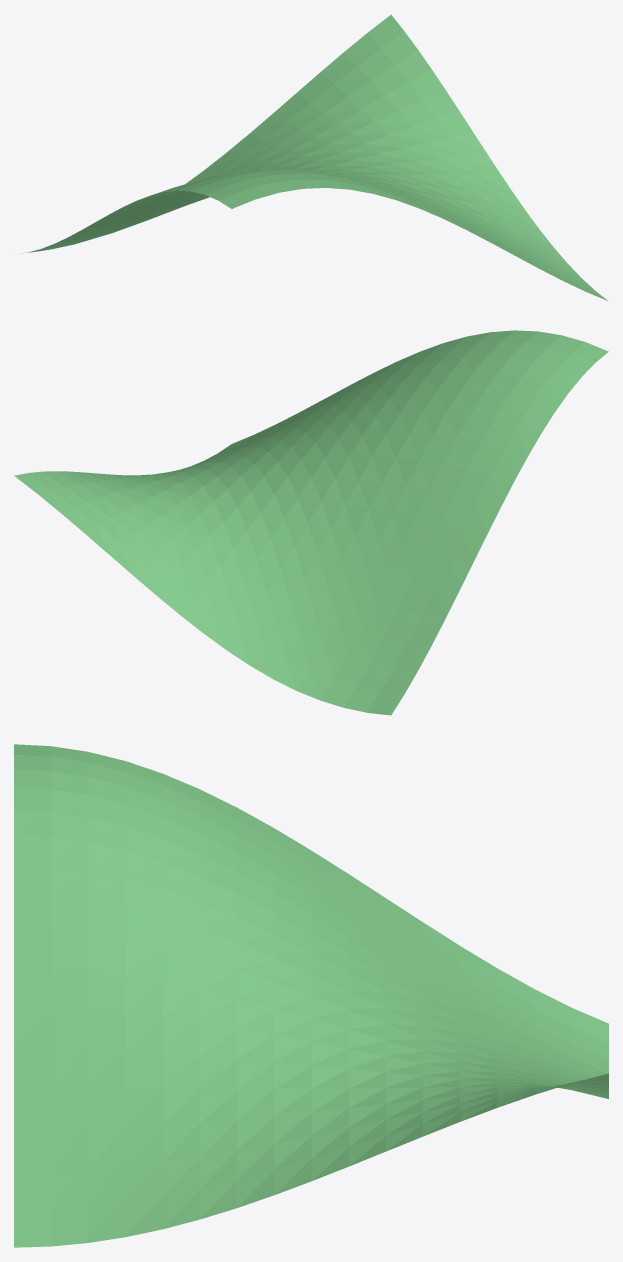
The picture shows the model from 3 angles, top to bottom: view 1: azimuth 30°, elevation 25°; view 2: azimuth 150°, elevation 25°; view 3: azimuth 270°, elevation 25°; orthographic projection. The views are drawn at different scales.
Bounding box in the file's own units: 10 × 5.4 × 10.
